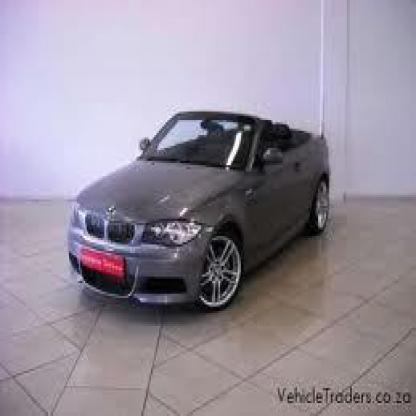Vehicle: (68, 109, 334, 313)
